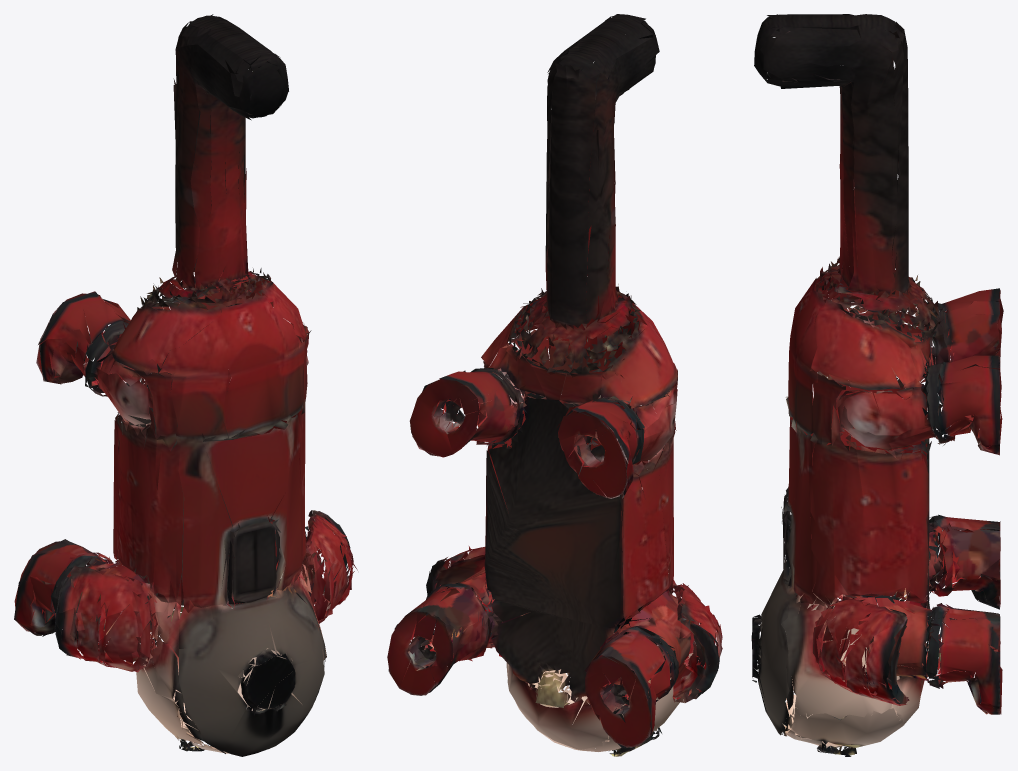
File: hero_samurai_toon.glb
3 renders of one model, left to right at view 1: azimuth 30°, elevation 25°; view 2: azimuth 150°, elevation 25°; view 3: azimuth 270°, elevation 25°, orthographic. The views are drawn at different scales.
Visible parts, largest first — view 1: HeroSamurai; view 2: HeroSamurai; view 3: HeroSamurai.
Boxes of the visible parts, box(x1,y1,x2,y2) form: HeroSamurai: box(14, 14, 357, 756); HeroSamurai: box(387, 14, 722, 756); HeroSamurai: box(751, 14, 1003, 756).
Bounding box in the file's own units: 0.8151 × 1.88 × 0.5935.
Materials: 1 (1 with a texture image).
